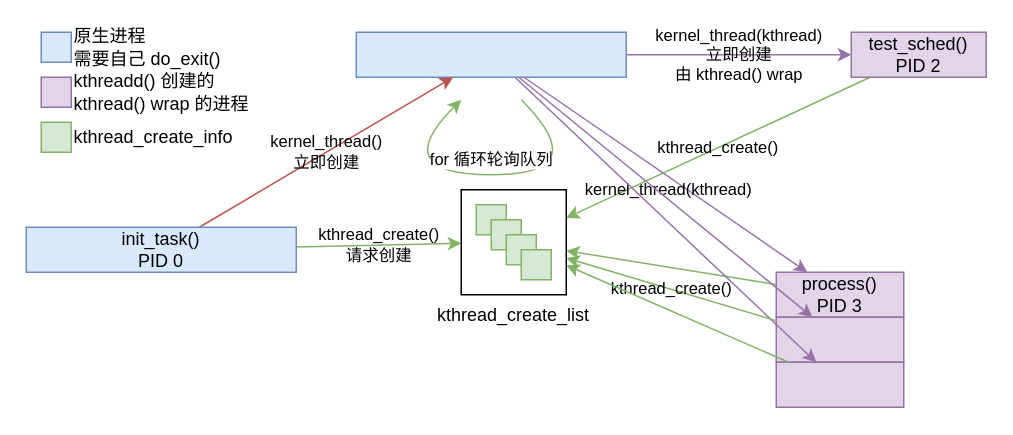
This 1013x435 diagram has some shape labels left out. The shapes that lost their labels are listed below. From the top down, each one's centre as x and y in pixels, then its label:
At [490,54]: "kthreadd() PID 1".
At [839,339]: "process() PID 4".
At [839,384]: "process() PID ...".
